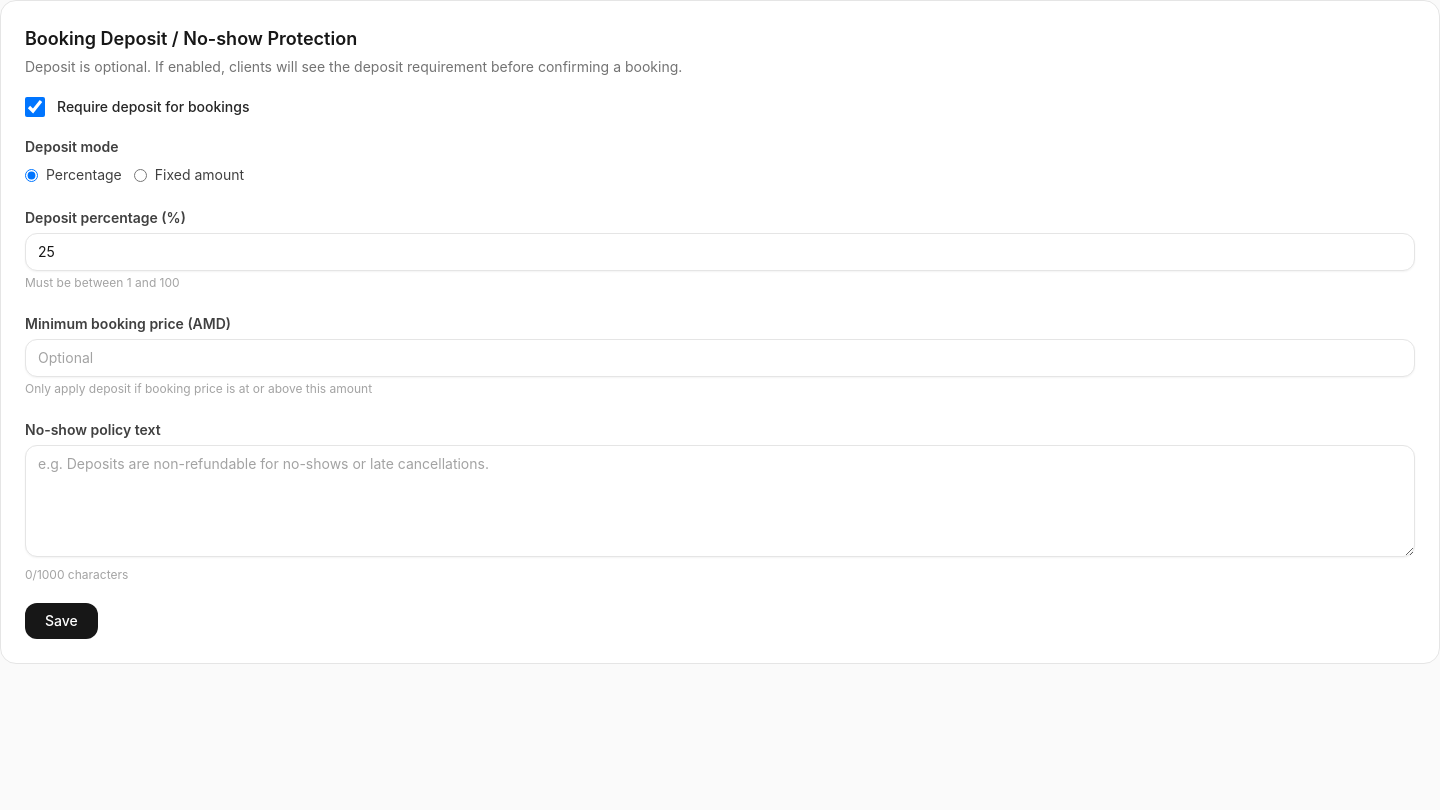
Test: DepositSettingsSection › shows success and error feedback accessibly
Step 1. Click the button "Save" → click(61, 621), box [25,603,98,639]
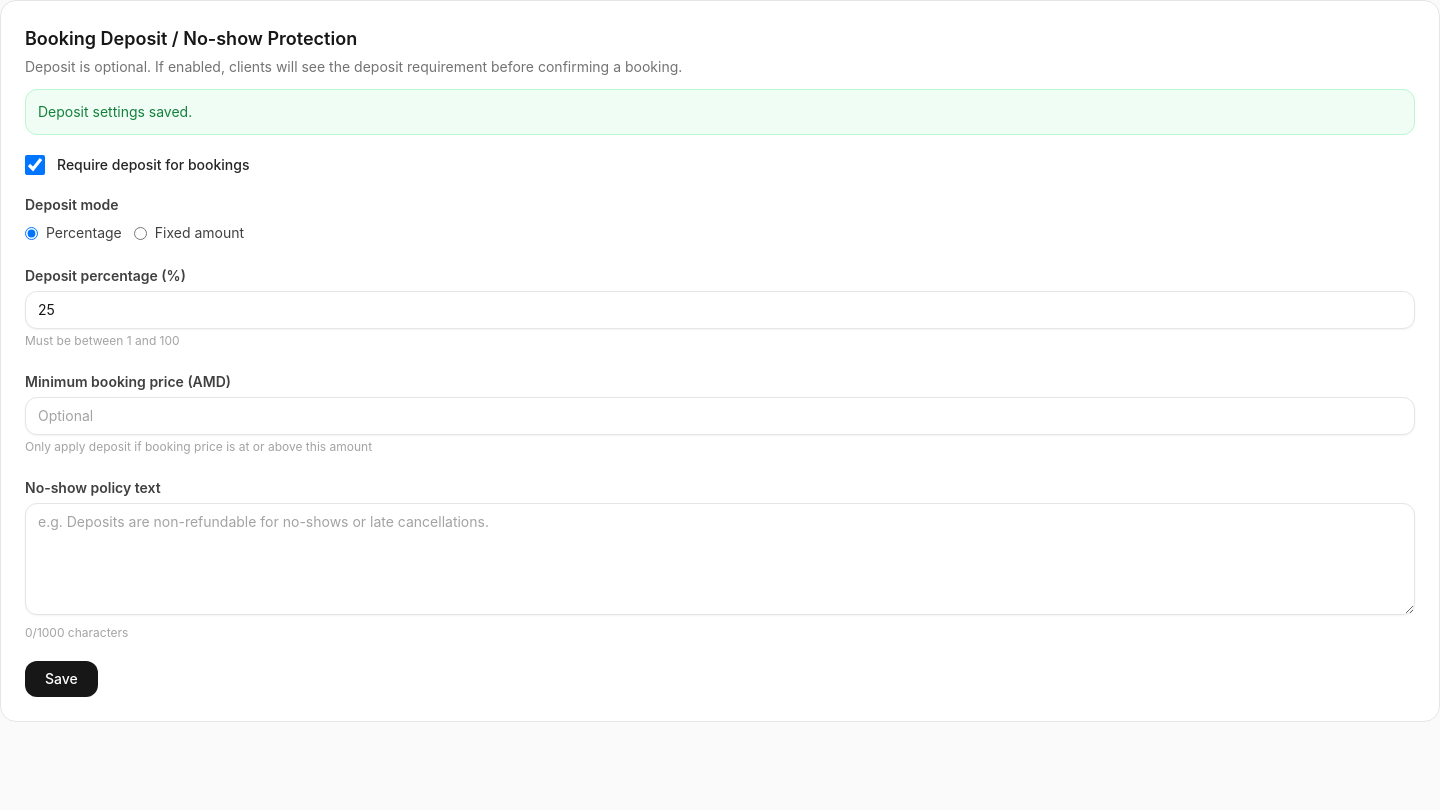
Expected: the message reads "Deposit settings saved.", [38,103,192,120]
Step 2. Click the button "Save" → click(61, 679), box [25,661,98,697]
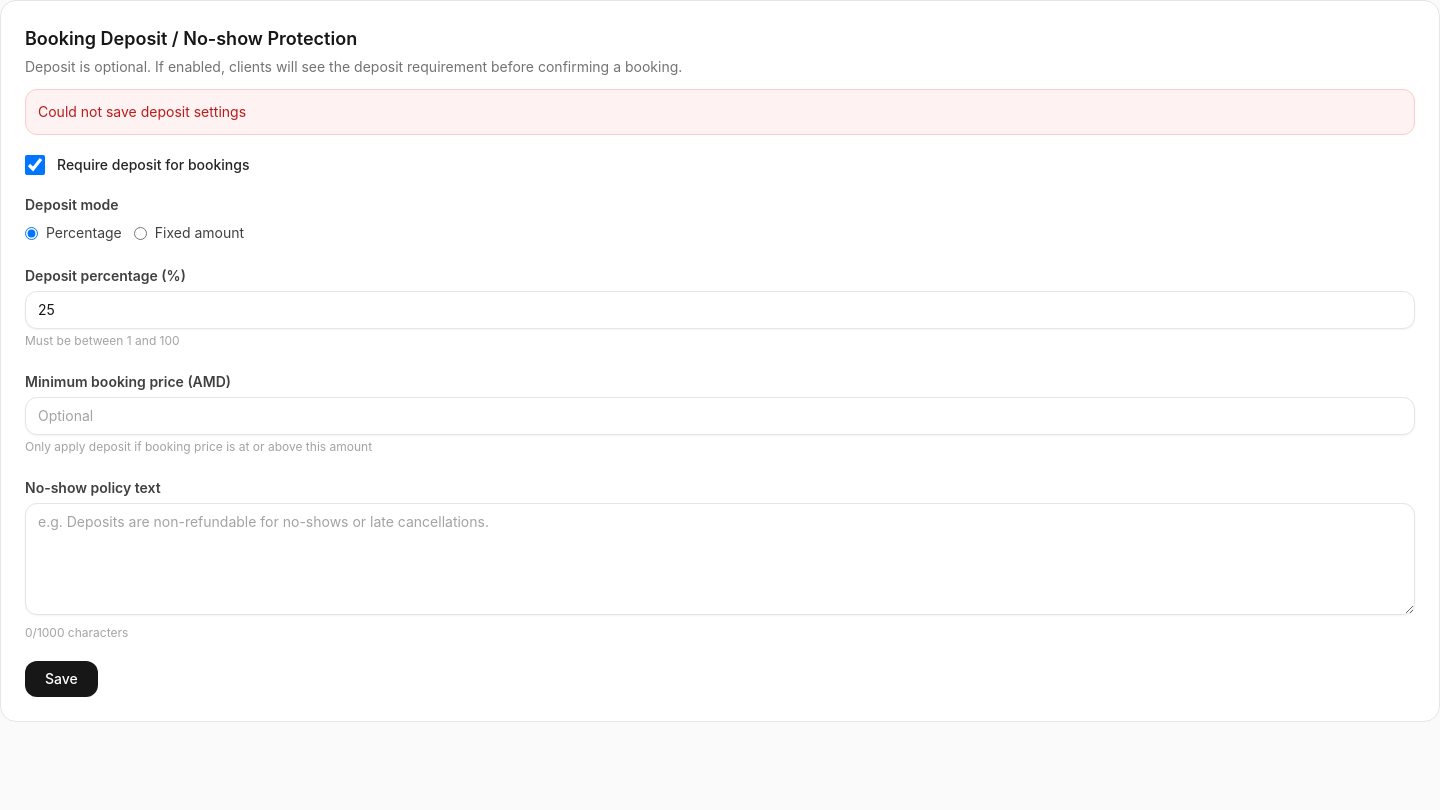
Expected: the message reads "Could not save deposit settings", [38,103,246,120]
